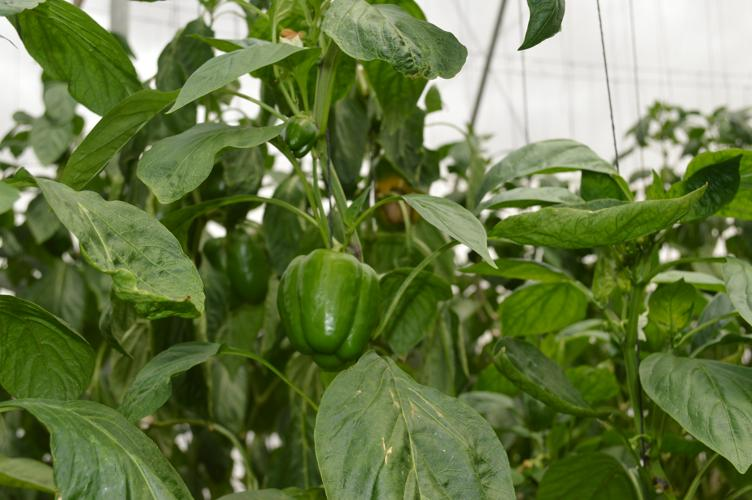BellPepper: (274, 249, 378, 365), (204, 226, 266, 301)
